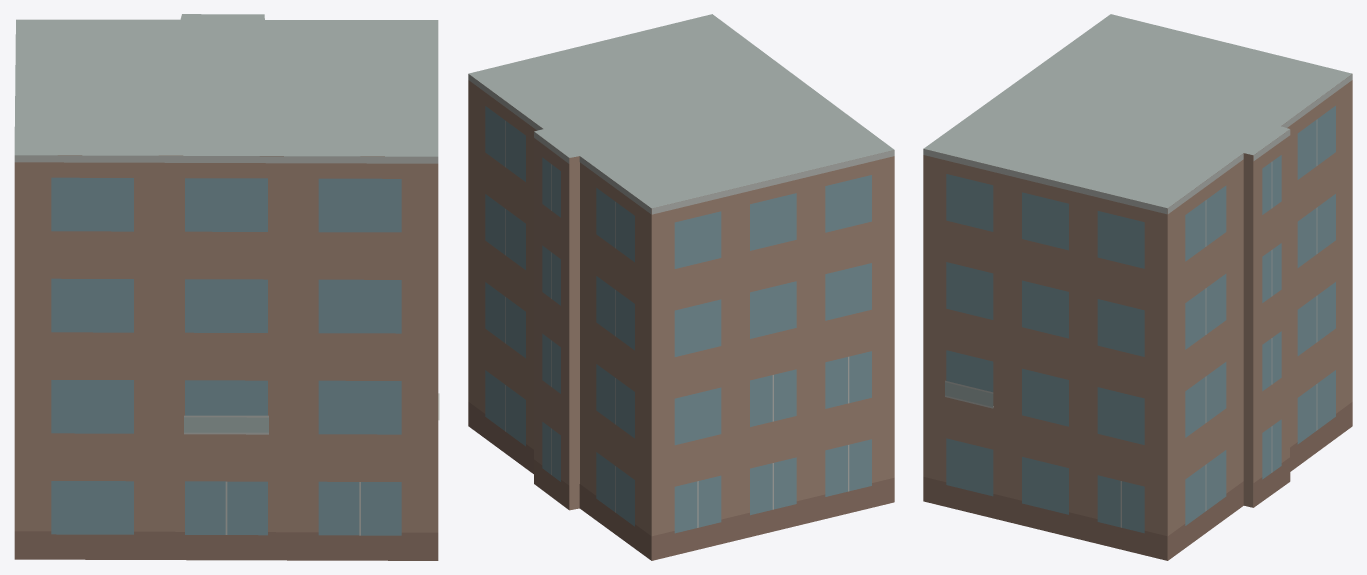
The model's file is survey-upis-32931397.glb.
3 views of the same model, side by side, from view 1: azimuth 30°, elevation 25°; view 2: azimuth 150°, elevation 25°; view 3: azimuth 270°, elevation 25° (orthographic). The views are drawn at different scales.
Visible parts, largest first — view 1: survey-upis-32931397.tmp; view 2: survey-upis-32931397.tmp; view 3: survey-upis-32931397.tmp.
Boxes of the visible parts, box(x1,y1,x2,y2) form: survey-upis-32931397.tmp: box(14, 14, 439, 560); survey-upis-32931397.tmp: box(468, 14, 894, 560); survey-upis-32931397.tmp: box(923, 14, 1352, 560).
Bounding box in the file's own units: 16.43 × 13.9 × 15.34.
